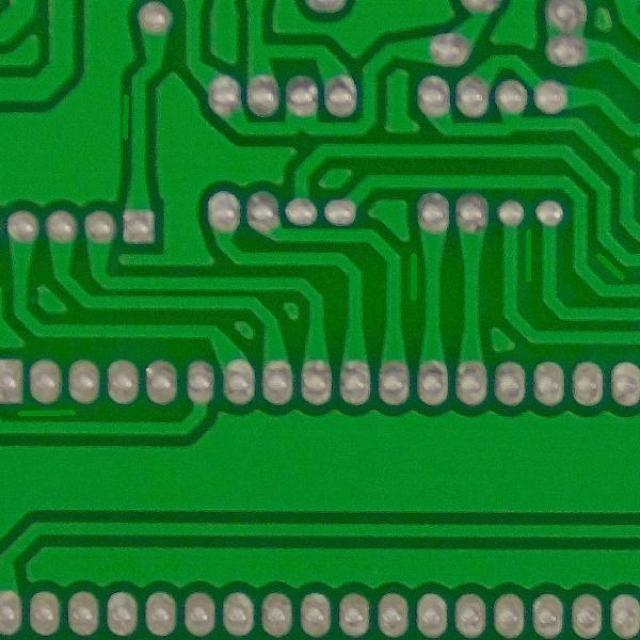Spurious_Cooper: (588, 245, 634, 285), (518, 224, 538, 286), (404, 246, 424, 305), (12, 404, 84, 420), (119, 90, 132, 144)
